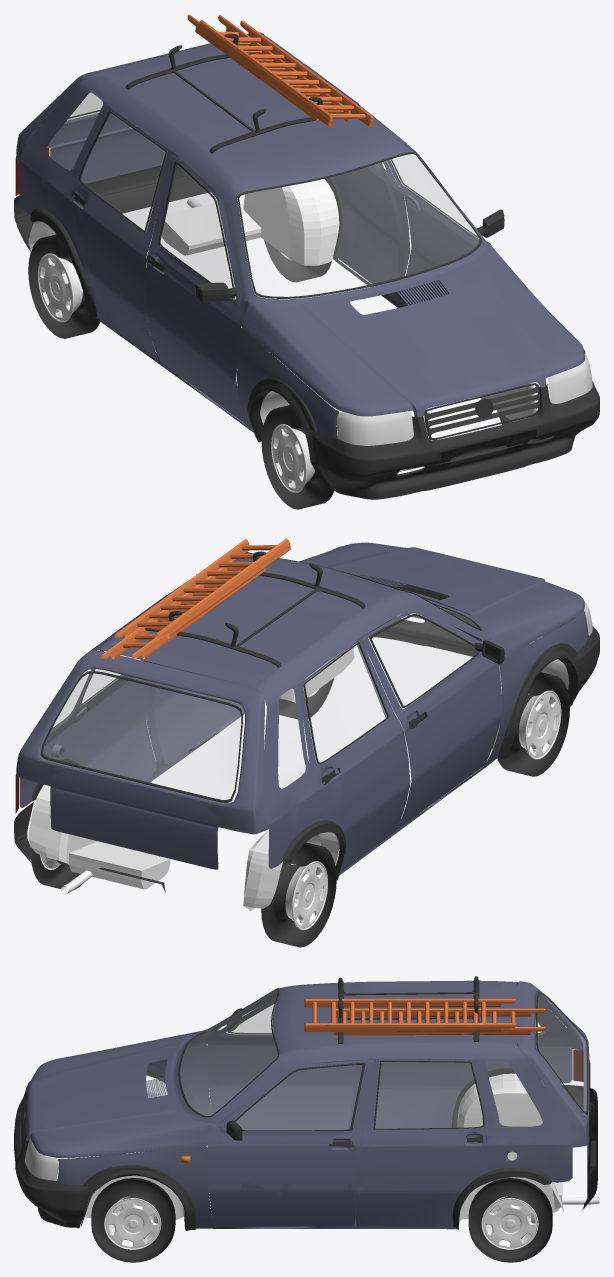
The model's file is uno-escada.glb.
The picture shows the model from 3 angles, top to bottom: view 1: azimuth 30°, elevation 25°; view 2: azimuth 150°, elevation 25°; view 3: azimuth 270°, elevation 25°; orthographic projection. The views are drawn at different scales.
Visible parts, largest first — view 1: lataria _42, capo_43, parabrisa_30, portas traseiras_37, portas dianteiras _38, para choque _40, vidro portas frontais _29, paralama interno traseiro_2, porta malas_41, vidros portas traseiras_28, escadas.001_20, farol_32 (+18 smaller); view 2: lataria _42, porta malas_41, vidro traseiro porta malas .001_26, portas traseiras_37, portas dianteiras _38, capo_43, vidros portas traseiras_28, vidro portas frontais _29, escadas.001_20, paralama interno traseiro_2, para choque _40, escapamento_14 (+16 smaller); view 3: lataria _42, portas dianteiras _38, portas traseiras_37, capo_43, parabrisa_30, vidros portas traseiras_28, vidro portas frontais _29, escadas.001_20, porta malas_41, paralama interno traseiro_2, pneu.001_17, pneu_11 (+18 smaller).
Boxes of the visible parts, box(x1,y1,x2,y2) form: lataria _42: box(19, 34, 585, 438); capo_43: box(242, 243, 584, 417); parabrisa_30: box(239, 154, 478, 296); portas traseiras_37: box(65, 98, 410, 359); portas dianteiras _38: box(145, 132, 491, 423); para choque _40: box(302, 381, 599, 499); vidro portas frontais _29: box(161, 154, 477, 287); paralama interno traseiro_2: box(28, 179, 339, 265); porta malas_41: box(16, 32, 264, 183); vidros portas traseiras_28: box(81, 114, 387, 229); escadas.001_20: box(199, 20, 373, 127); farol_32: box(337, 353, 592, 445); lataria _42: box(19, 552, 588, 875); porta malas_41: box(16, 650, 269, 869); vidro traseiro porta malas .001_26: box(43, 669, 244, 803); portas traseiras_37: box(66, 595, 410, 872); portas dianteiras _38: box(146, 609, 502, 827); capo_43: box(299, 542, 584, 657); vidros portas traseiras_28: box(81, 645, 386, 761); vidro portas frontais _29: box(369, 616, 476, 705); escadas.001_20: box(114, 538, 290, 638); paralama interno traseiro_2: box(28, 784, 338, 910); para choque _40: box(367, 585, 599, 706); escapamento_14: box(60, 841, 170, 894); lataria _42: box(20, 980, 572, 1229); portas dianteiras _38: box(207, 997, 374, 1226); portas traseiras_37: box(356, 1059, 495, 1226); capo_43: box(25, 1030, 207, 1158); parabrisa_30: box(180, 990, 277, 1115); vidros portas traseiras_28: box(375, 1062, 482, 1128); vidro portas frontais _29: box(228, 1003, 361, 1129); escadas.001_20: box(304, 998, 515, 1031); porta malas_41: box(517, 981, 589, 1165); paralama interno traseiro_2: box(457, 1073, 563, 1221); pneu.001_17: box(91, 1178, 175, 1262); pneu_11: box(468, 1178, 552, 1262).
Bounding box in the file's own units: 3.17 × 2.77 × 6.49.
